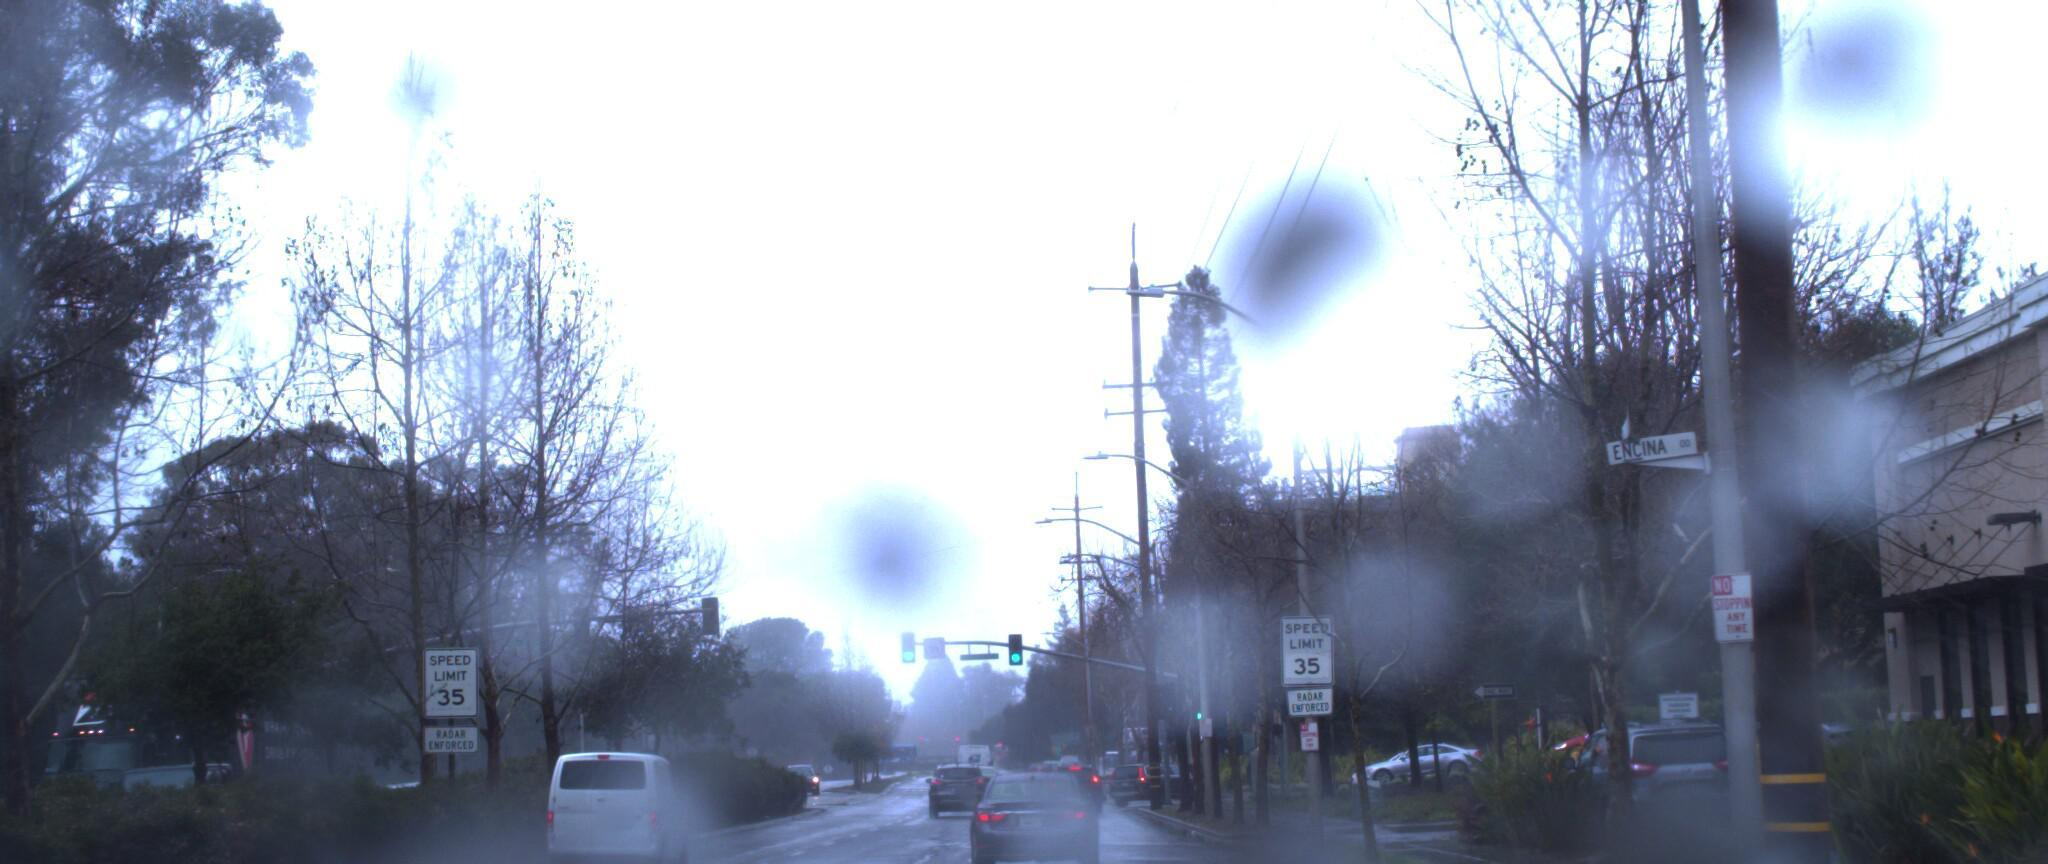car: (1532, 713, 1746, 847), (536, 726, 694, 851), (955, 762, 1093, 864)
